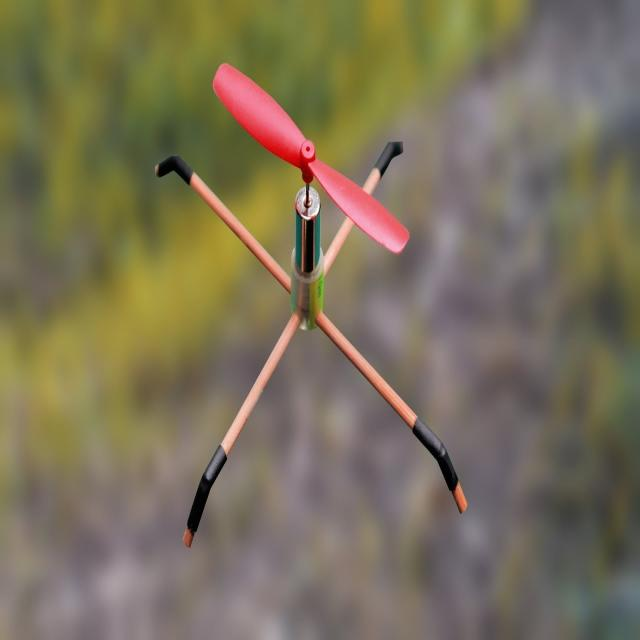drone: (164, 65, 496, 561)
